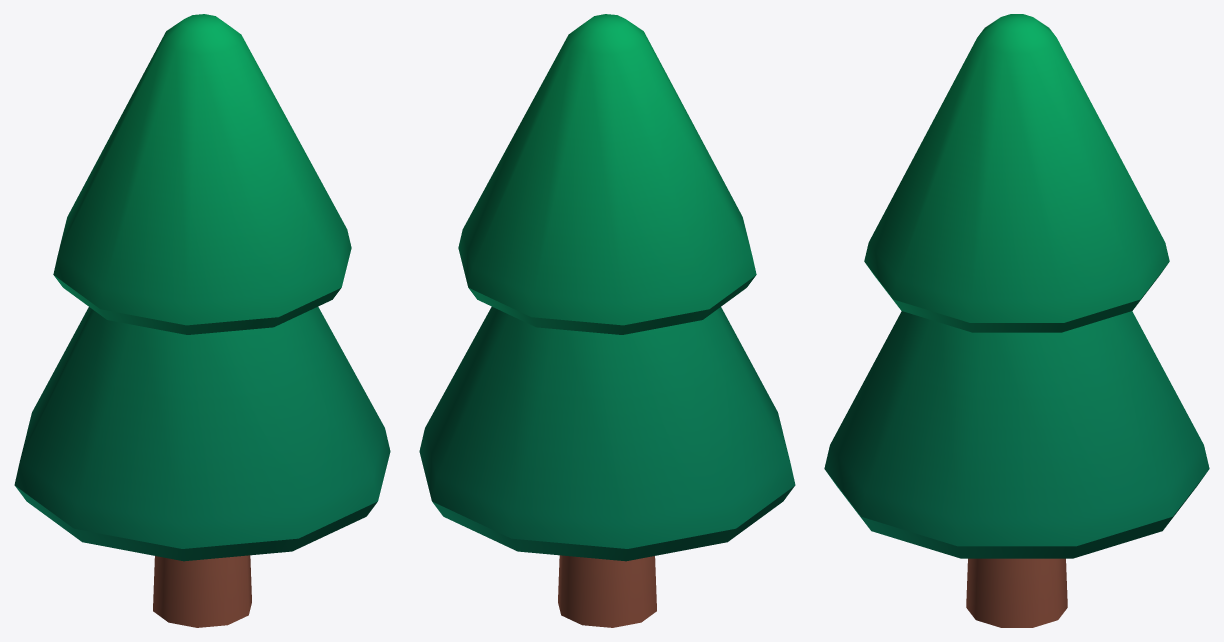
File: tree_single_B.gltf
The picture shows the model from 3 angles, left to right: view 1: azimuth 30°, elevation 25°; view 2: azimuth 150°, elevation 25°; view 3: azimuth 270°, elevation 25°; orthographic projection.
Visible parts, largest first — view 1: tree_single_B; view 2: tree_single_B; view 3: tree_single_B.
Boxes of the visible parts, left/top/right/bottom form: tree_single_B: left=14, top=14, right=390, bottom=627; tree_single_B: left=419, top=14, right=795, bottom=627; tree_single_B: left=824, top=14, right=1209, bottom=627.
Bounding box in the file's own units: 0.6849 × 1.21 × 0.7201.
1 material, 1 textured.
